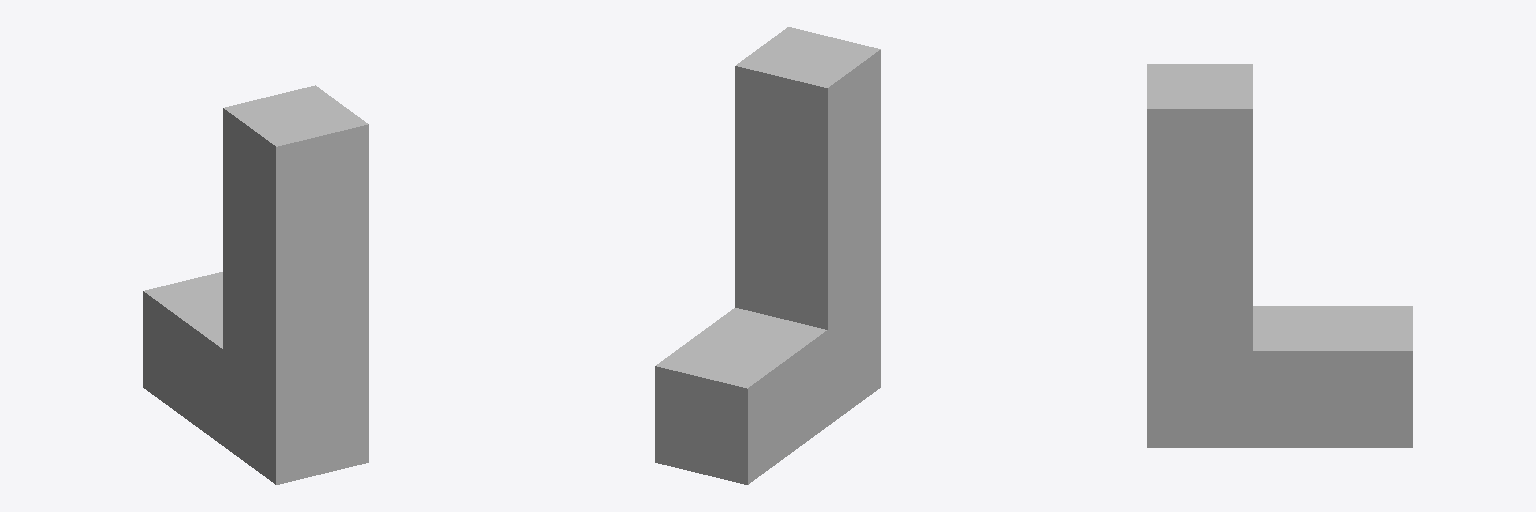
File: ELE.obj
3 views of the same model, side by side, from view 1: azimuth 30°, elevation 25°; view 2: azimuth 150°, elevation 25°; view 3: azimuth 270°, elevation 25° (orthographic).
Parts seen in each view (by area): view 1: Cube; view 2: Cube; view 3: Cube.
Boxes of the visible parts, box(x1,y1,x2,y2) form: Cube: box(143, 85, 368, 484); Cube: box(655, 27, 880, 484); Cube: box(1147, 64, 1412, 447).
Size of the model in its own units: 2 by 7 by 5.